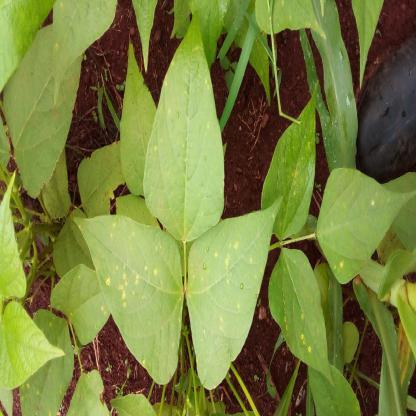Beans_Rust: (139, 9, 224, 239), (184, 196, 282, 394), (71, 210, 181, 384), (312, 169, 416, 282), (260, 92, 318, 246), (270, 247, 332, 386), (48, 0, 120, 93)
